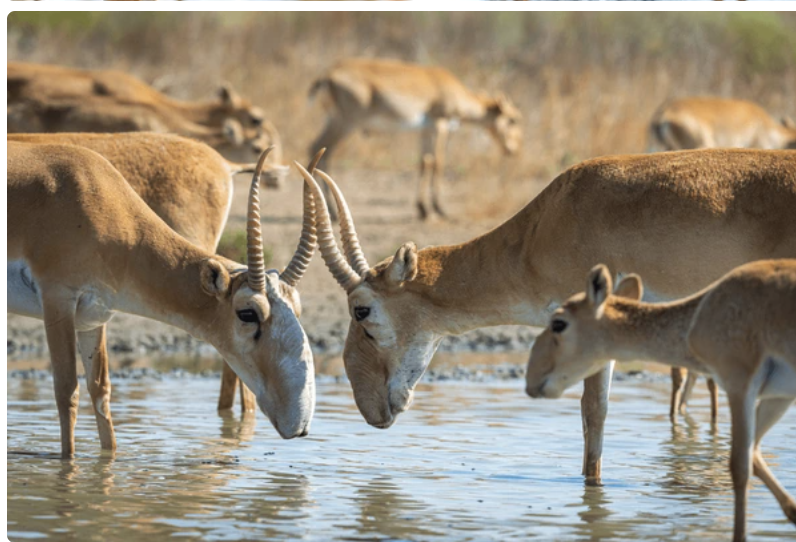saiga: (295, 141, 796, 464)
